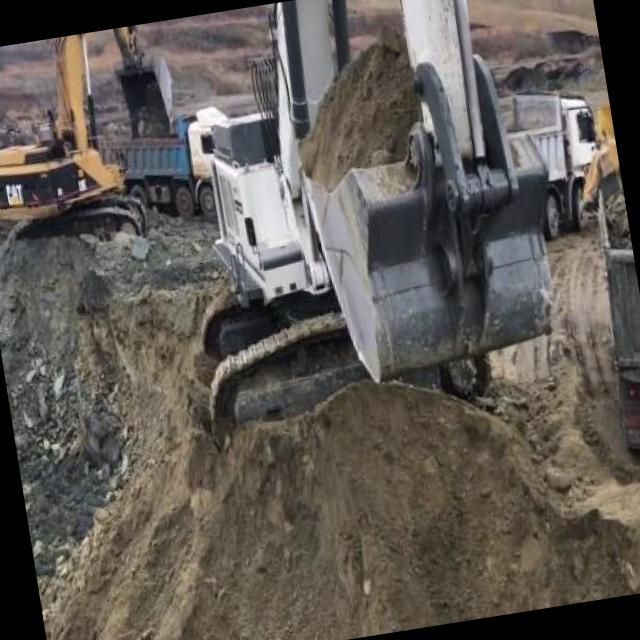Dump Truck: (565, 91, 640, 475), (498, 80, 612, 243), (109, 108, 220, 234)
Excavator: (144, 0, 573, 456), (0, 21, 191, 256)
